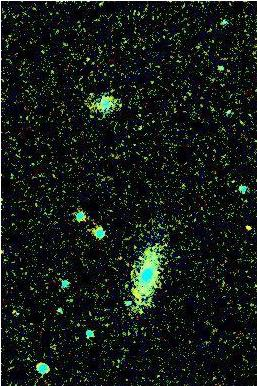star: (233, 210, 257, 240)
